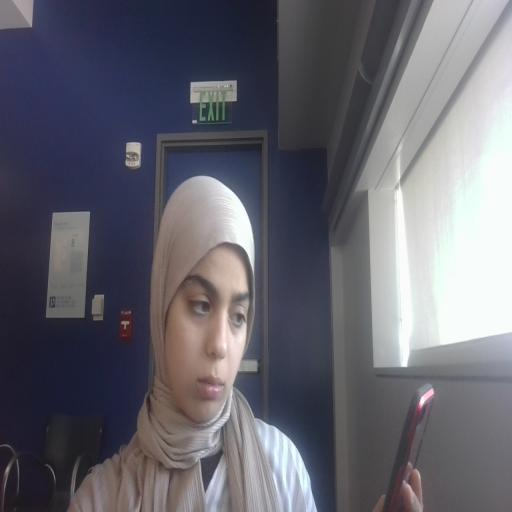phone: (392, 377, 464, 512)
